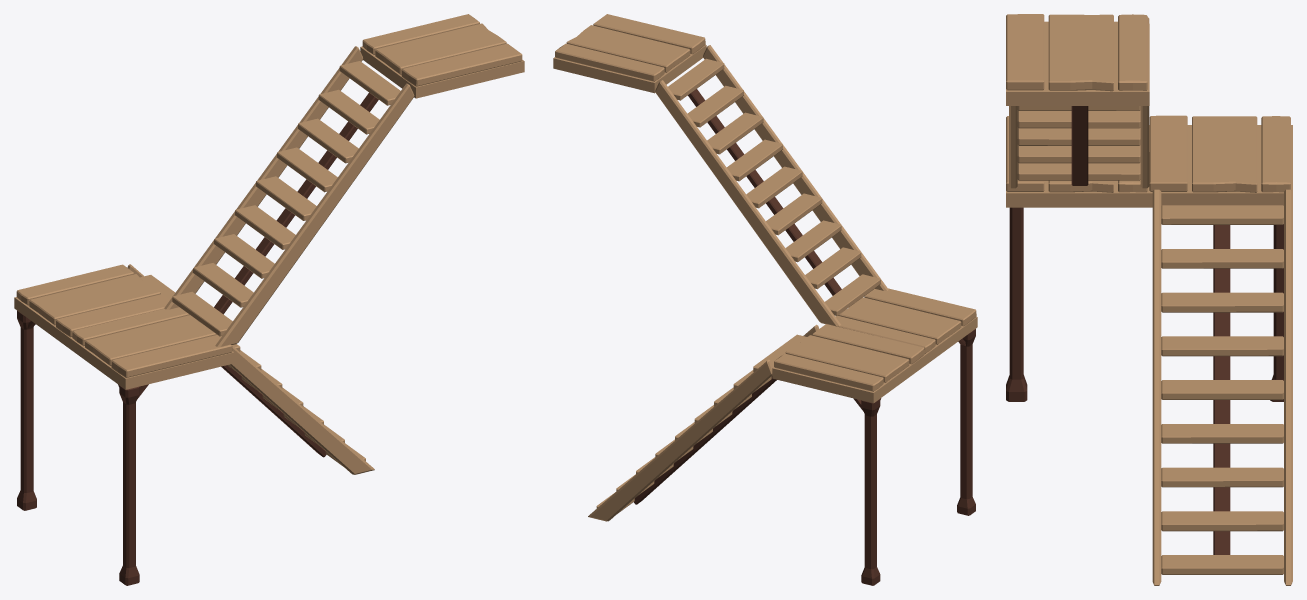
Rendered from stairs-d.glb.
The picture shows the model from 3 angles, left to right: view 1: azimuth 30°, elevation 25°; view 2: azimuth 150°, elevation 25°; view 3: azimuth 270°, elevation 25°; orthographic projection. The views are drawn at different scales.
Parts seen in each view (by area): view 1: Stairs D (×2); view 2: Stairs D (×2); view 3: Stairs D (×2).
Part boxes in pixels (<box>): Stairs D (×2): <box>14,14,524,585</box>; Stairs D (×2): <box>553,14,977,585</box>; Stairs D (×2): <box>1006,14,1292,585</box>.
Size of the model in its own units: 4.23 by 4.43 by 2.04.
